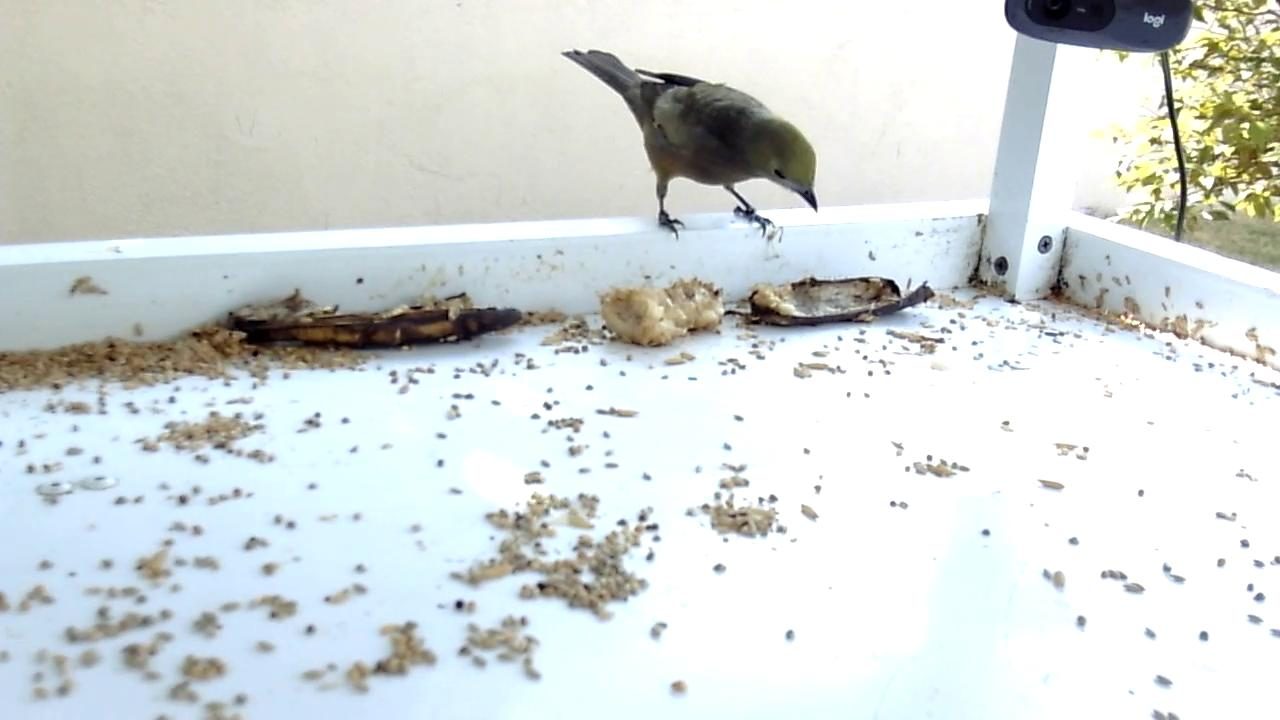sanhaco_do_coqueiro: (561, 49, 820, 242)
